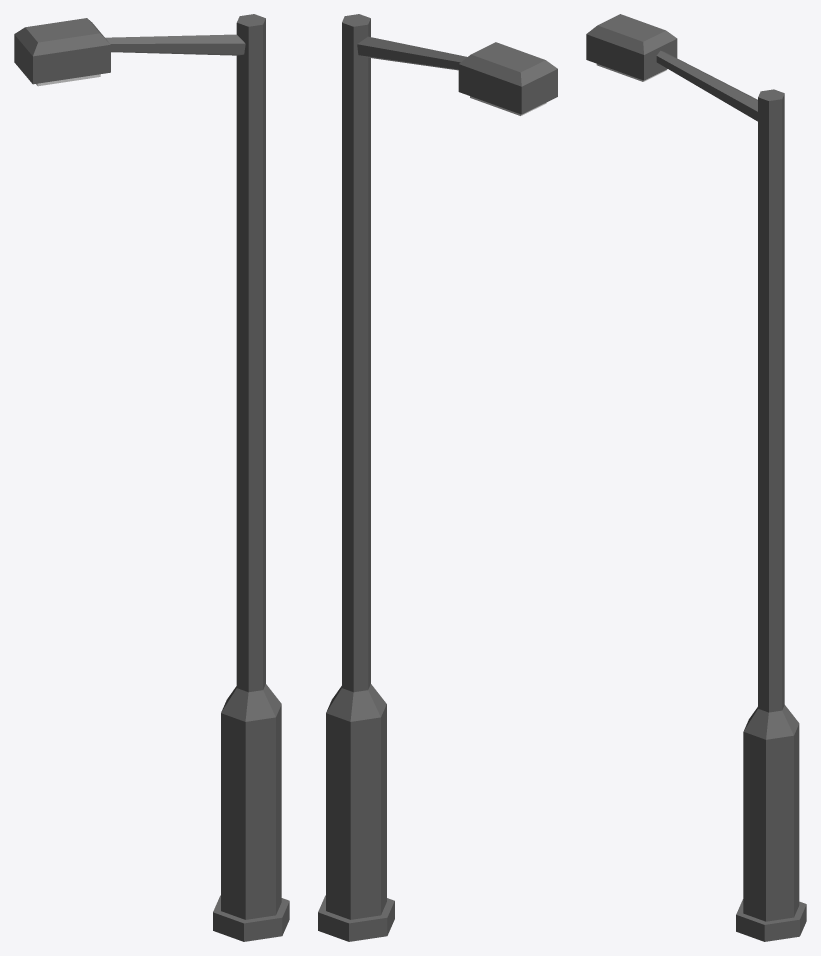
Rendered from Eletricity Pole.fbx.
3 views of the same model, side by side, from view 1: azimuth 30°, elevation 25°; view 2: azimuth 150°, elevation 25°; view 3: azimuth 330°, elevation 25° (orthographic). The views are drawn at different scales.
Parts seen in each view (by area): view 1: Eletricity Pole; view 2: Eletricity Pole; view 3: Eletricity Pole.
Part boxes in pixels (bbox=[...]): Eletricity Pole: bbox=[14, 14, 289, 941]; Eletricity Pole: bbox=[318, 14, 557, 941]; Eletricity Pole: bbox=[586, 14, 806, 941].
Bounding box in the file's own units: 137 × 53.31 × 492.
